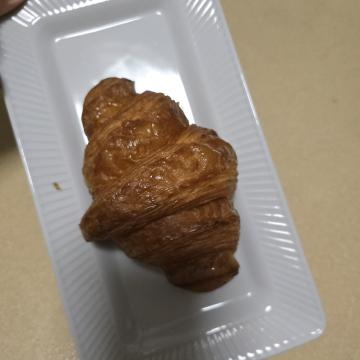croissant: (68, 114, 308, 295)
